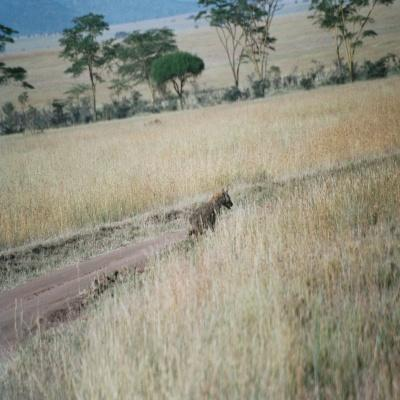hyenas: (179, 180, 245, 246)
